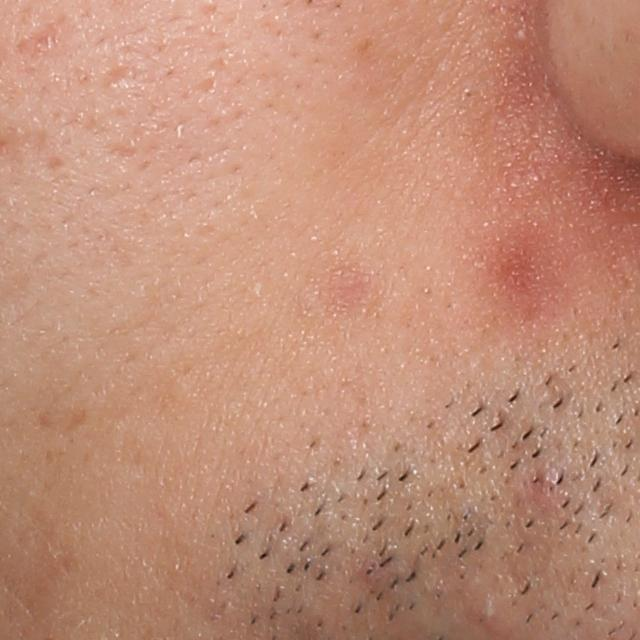atrophic_scar: (9, 14, 71, 58)
